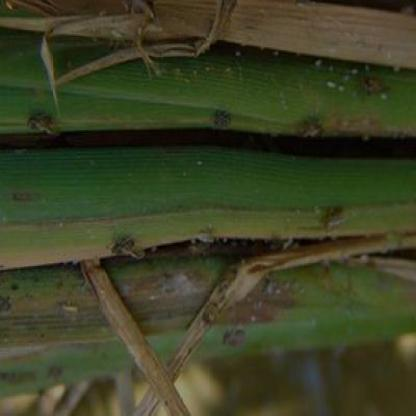brown-planthopper: (110, 238, 146, 262), (324, 202, 350, 228), (24, 114, 54, 135), (364, 74, 392, 96), (223, 324, 245, 348), (299, 119, 324, 139), (210, 107, 230, 130), (197, 228, 217, 243)
